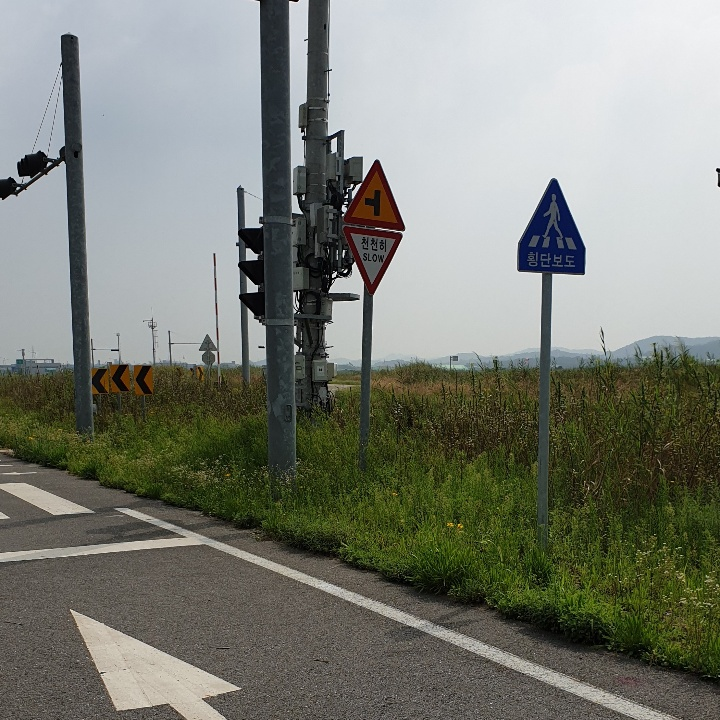cross: (537, 187, 568, 244)
